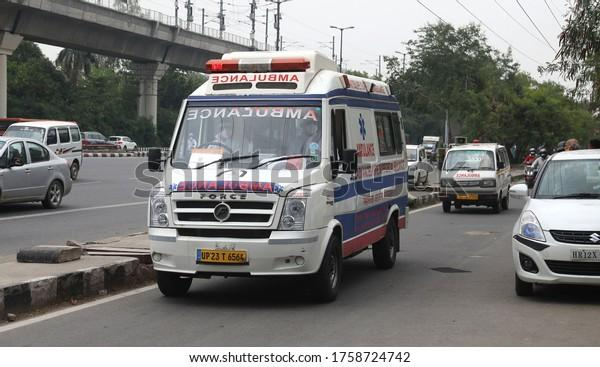ER: (147, 49, 405, 295)
